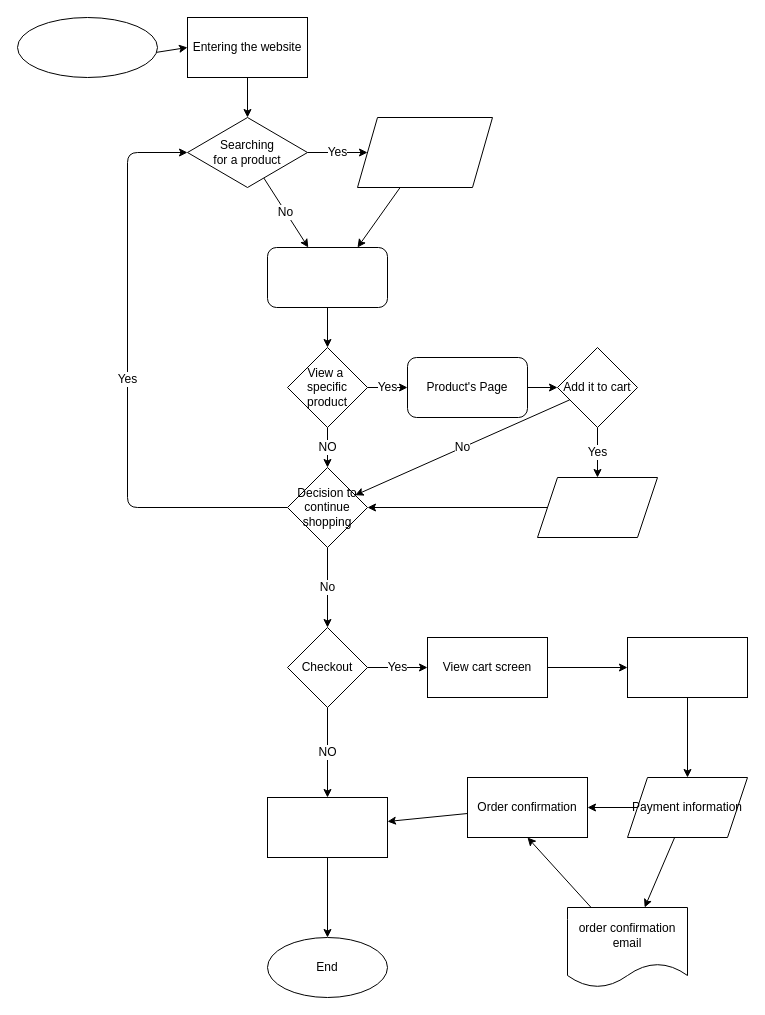
The diagram is 765 pixels wide and 1015 high, and some of its shapes have lost their labels. Each missing label, with the centre of its shape:
"Add the product in the cart" belongs at pixel 597 507.
"input to the website of their search" belongs at pixel 424 152.
"Leave the website" belongs at pixel 327 827.
"Looking over the products" belongs at pixel 327 277.
"Start" belongs at pixel 87 47.
"View payment screen" belongs at pixel 687 667.
